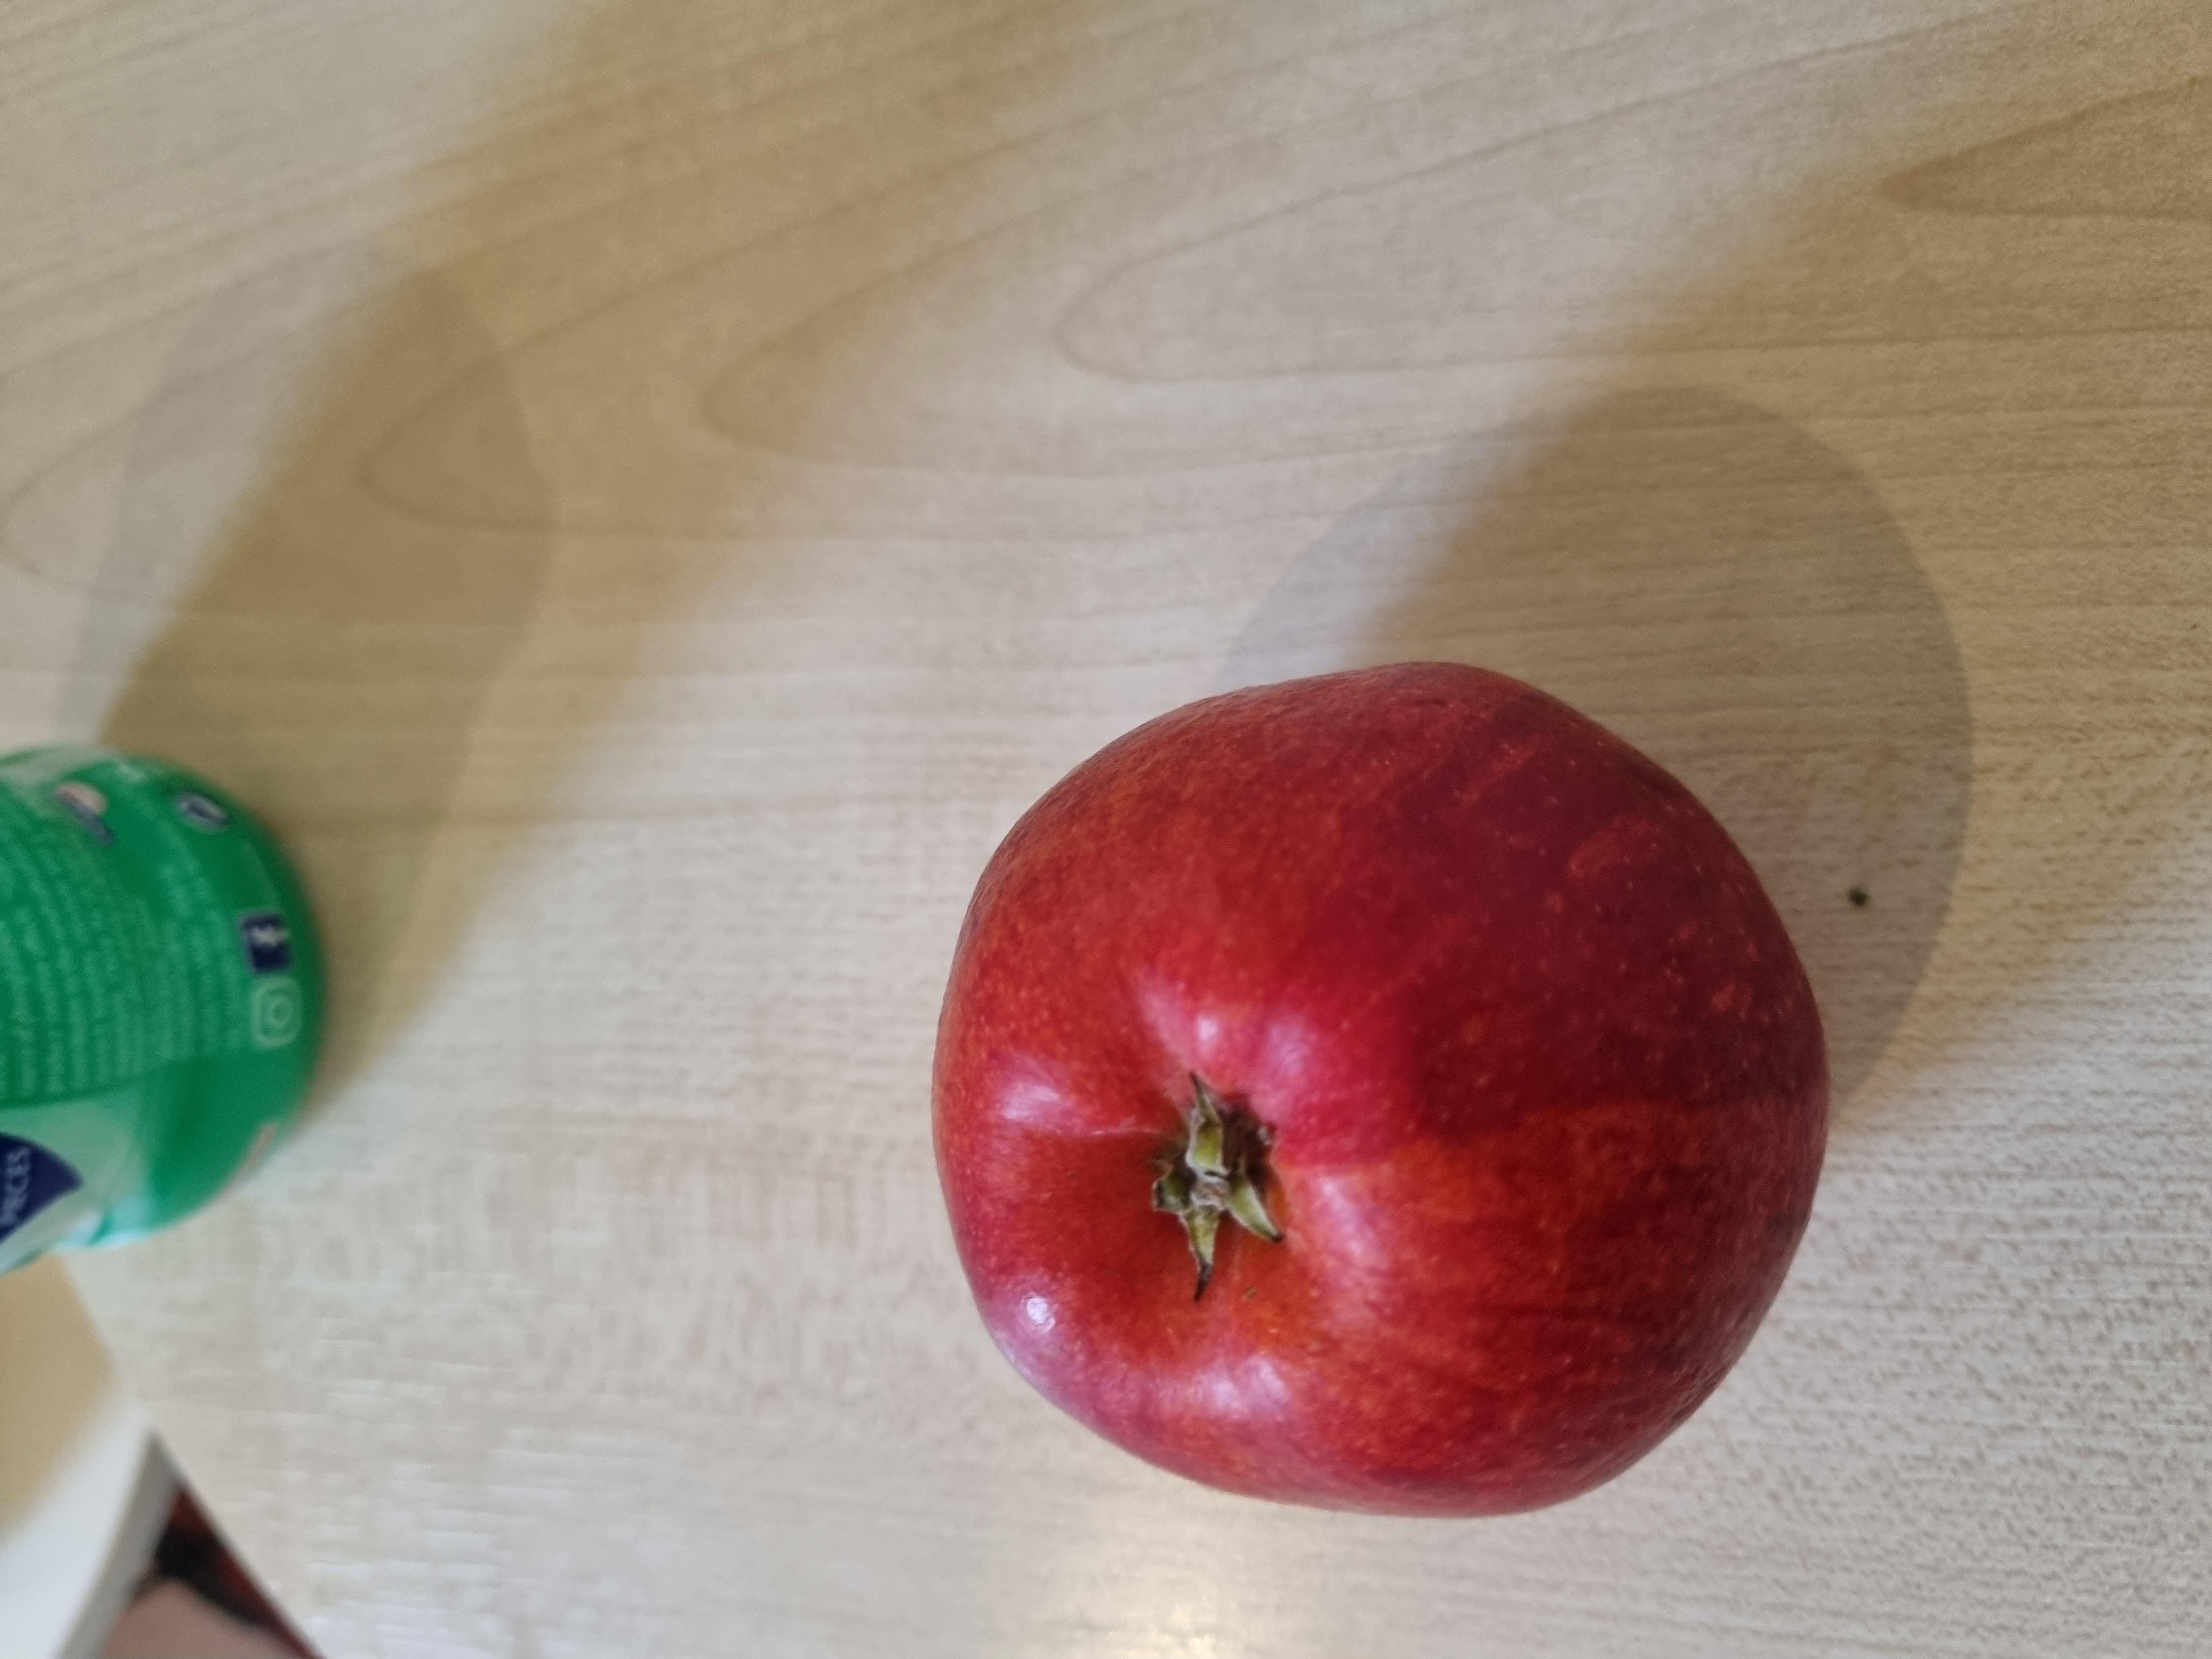Apple: (167, 676, 1355, 1391)
